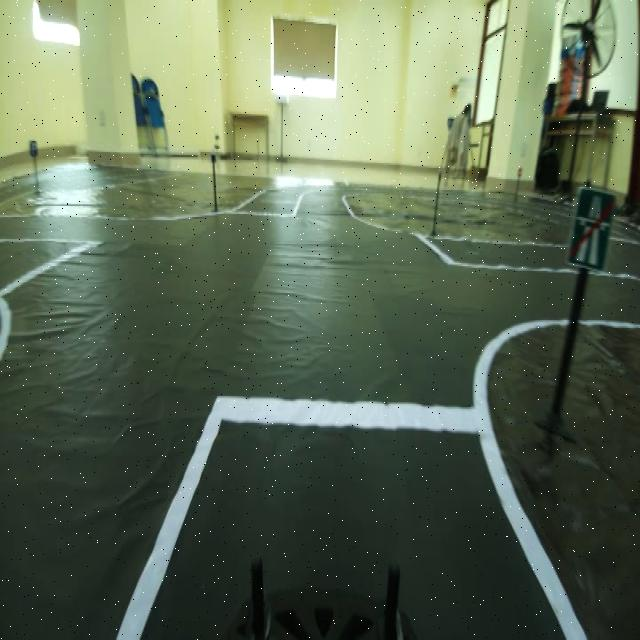highway_exit: (568, 171, 616, 292)
